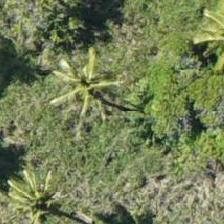coconut_tree: (35, 24, 125, 114), (0, 159, 84, 223)
